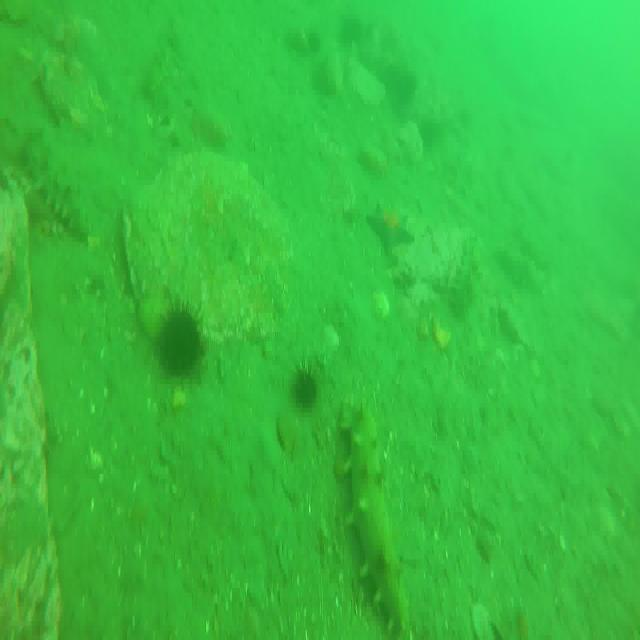echinus: (158, 303, 202, 380), (288, 363, 318, 413)
holothurian: (345, 410, 410, 637), (15, 126, 92, 241)
starfish: (367, 201, 412, 252)
